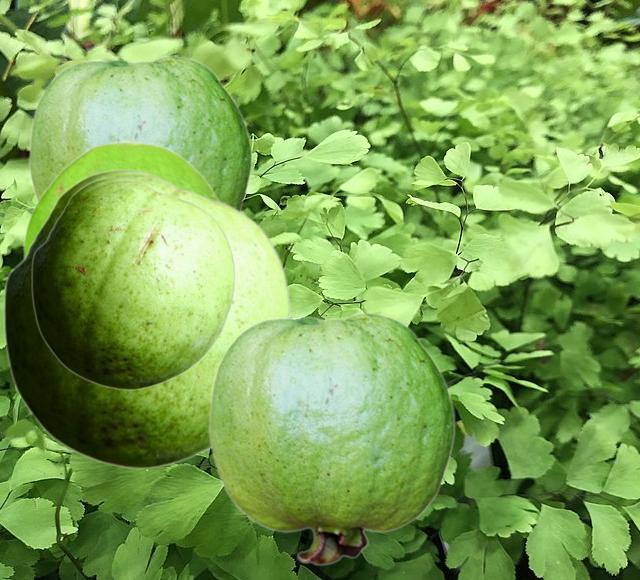guava: (3, 169, 289, 468), (208, 312, 455, 565), (31, 177, 234, 389), (28, 55, 252, 209), (22, 140, 220, 257)
